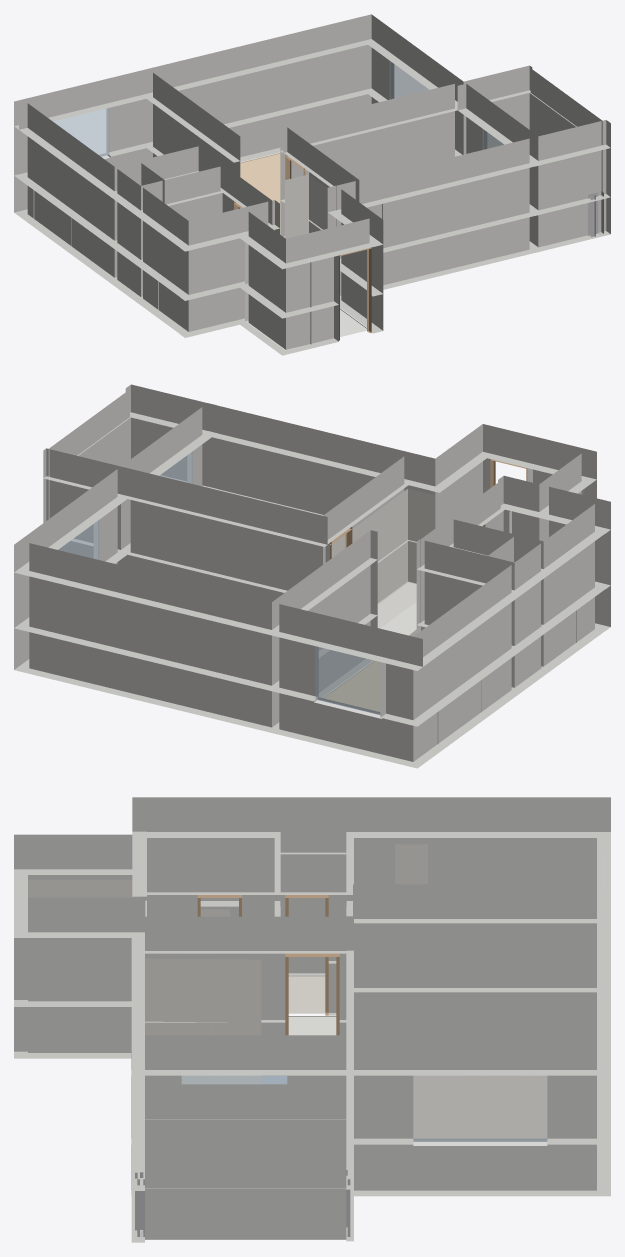
3 renders of one model, top to bottom at view 1: azimuth 30°, elevation 25°; view 2: azimuth 150°, elevation 25°; view 3: azimuth 270°, elevation 25°, orthographic. The views are drawn at different scales.
Parts seen in each view (by area): view 1: walls, furniture_2_closet, window_2, floor_1_Living_Room, window_3, railings, door_4, furniture_4_closet; view 2: walls, furniture_2_closet, window_2, floor_0_Kitchen, window_3, floor_2_Undefined, window_0; view 3: walls, furniture_3_closet, window_3, floor_1_Living_Room, furniture_4_closet, floor_4_Storage, furniture_0_closet, window_0, floor_2_Undefined, door_1, sill_3, railings.
Boxes of the visible parts, left/top/right/bottom form: walls: left=14, top=14, right=610, bottom=355; furniture_2_closet: left=285, top=174, right=340, bottom=296; window_2: left=53, top=108, right=109, bottom=156; floor_1_Living_Room: left=240, top=153, right=280, bottom=234; window_3: left=389, top=61, right=433, bottom=99; railings: left=588, top=191, right=603, bottom=236; door_4: left=339, top=247, right=371, bottom=340; furniture_4_closet: left=245, top=242, right=311, bottom=350; walls: left=14, top=384, right=610, bottom=768; furniture_2_closet: left=352, top=489, right=434, bottom=628; window_2: left=315, top=643, right=380, bottom=714; floor_0_Kitchen: left=324, top=661, right=379, bottom=711; window_3: left=53, top=516, right=99, bottom=559; floor_2_Undefined: left=380, top=602, right=416, bottom=635; window_0: left=159, top=451, right=192, bottom=483; walls: left=14, top=797, right=610, bottom=1242; furniture_3_closet: left=145, top=958, right=261, bottom=1083; window_3: left=413, top=1075, right=547, bottom=1141; floor_1_Living_Room: left=413, top=1076, right=546, bottom=1138; furniture_4_closet: left=28, top=879, right=138, bottom=897; floor_4_Storage: left=288, top=975, right=325, bottom=1013; furniture_0_closet: left=395, top=844, right=427, bottom=884; window_0: left=181, top=1075, right=287, bottom=1084; floor_2_Undefined: left=288, top=1016, right=336, bottom=1035; door_1: left=285, top=953, right=339, bottom=1035; sill_3: left=413, top=1140, right=547, bottom=1145; railings: left=135, top=1170, right=350, bottom=1237.
Size of the model in its own units: 10.83 by 2.72 by 9.41.
